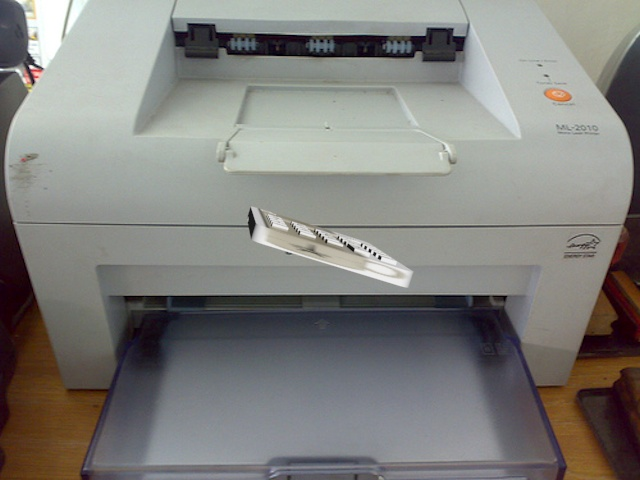calculator: (241, 201, 416, 288)
